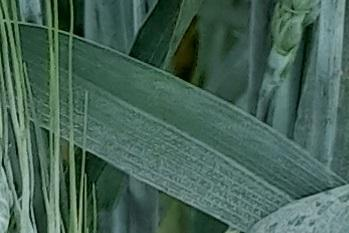Potato: (82, 48, 336, 230)
